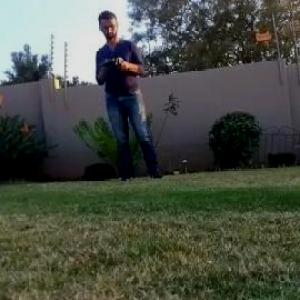follow: (92, 0, 171, 186)
